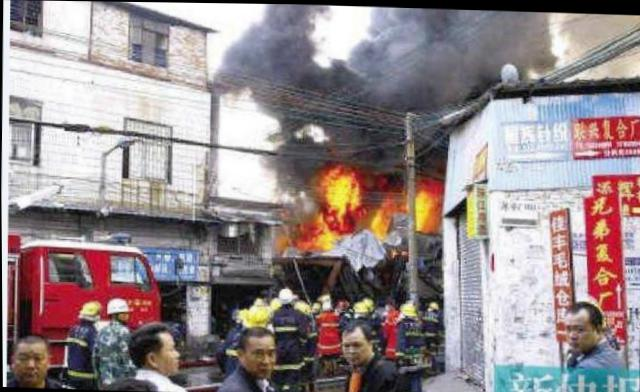fire: (321, 166, 363, 229), (415, 180, 442, 229), (305, 219, 332, 248), (367, 206, 388, 236)
